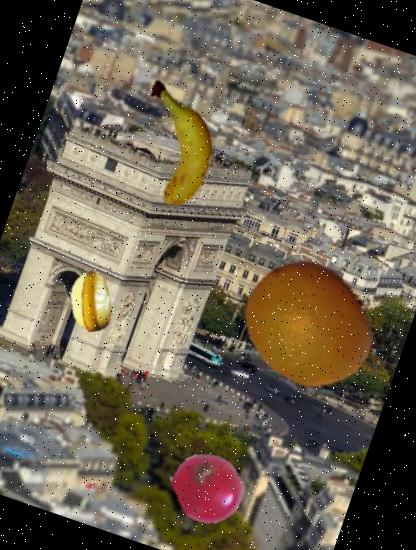Banana: (100, 72, 247, 219)
Carambula: (52, 262, 130, 341)
Lemon: (223, 238, 396, 411)
Redcurrant: (163, 442, 255, 534)
